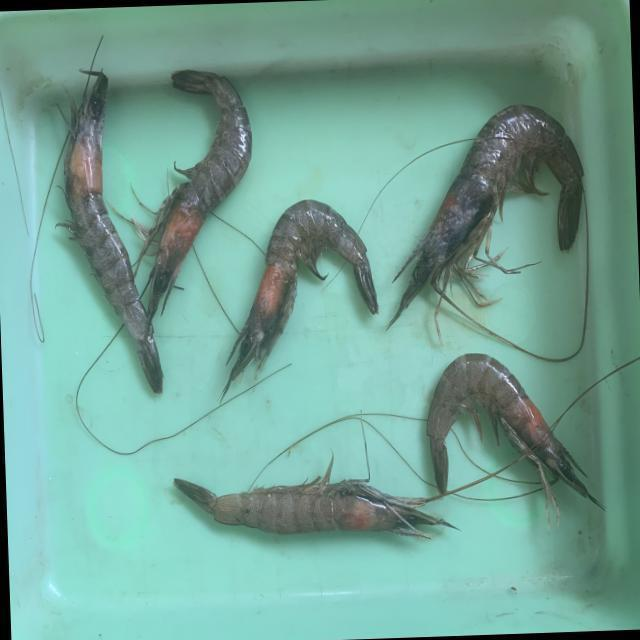shrimp: (388, 104, 584, 326), (62, 71, 162, 393), (223, 199, 378, 393), (427, 353, 605, 521), (140, 69, 251, 322), (173, 458, 454, 538)
